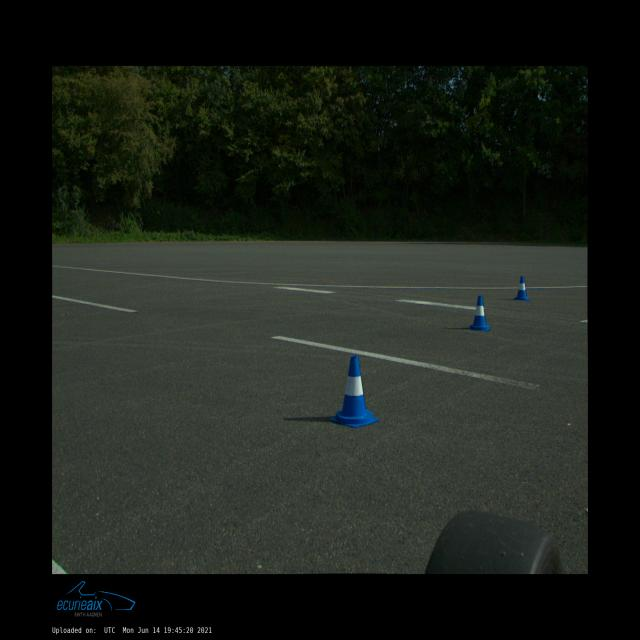blue_cone: (330, 356, 379, 427), (469, 296, 491, 332), (513, 276, 530, 300)
